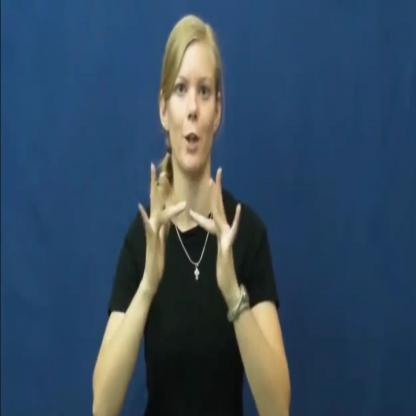Internet: (139, 159, 241, 311)
